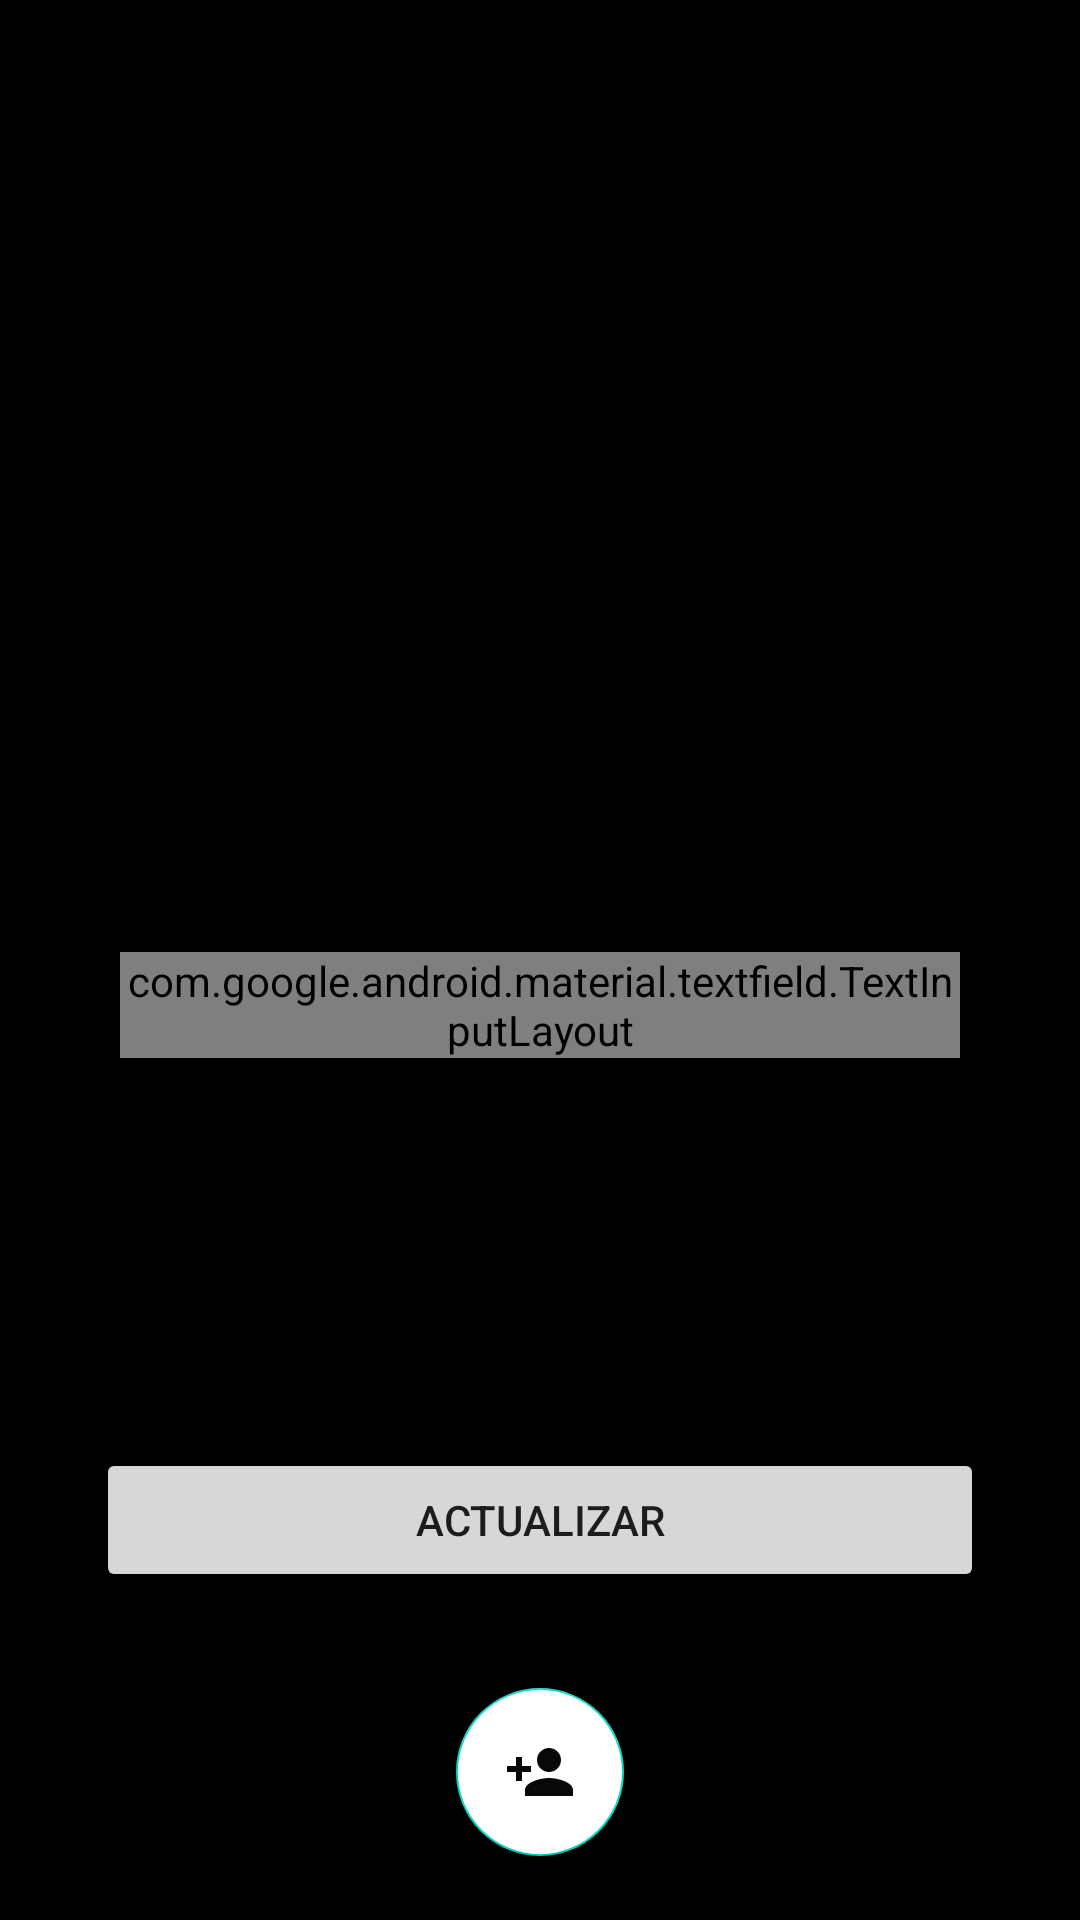

Screen size 1080 x 1920. Icon name, then its box in pixels as (x1, y1, x2, y2):
add employe: (456, 1688, 624, 1856)
